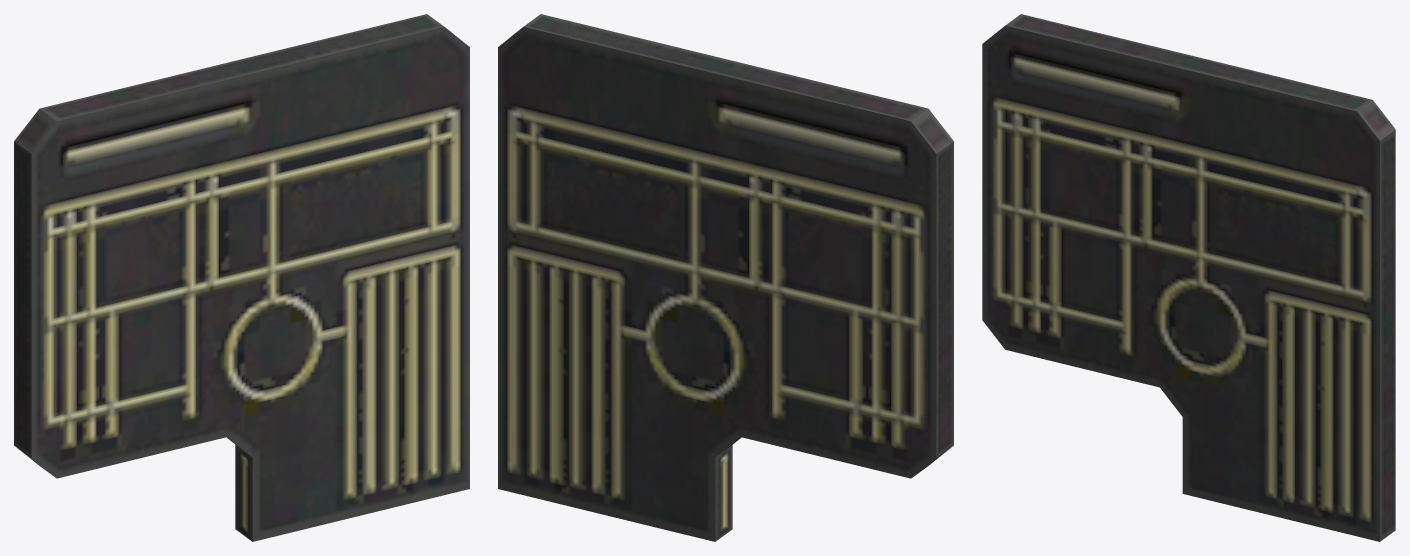
Rendered from eqp_comp_electronic_module_simple.fbx.
3 renders of one model, left to right at view 1: azimuth 30°, elevation 25°; view 2: azimuth 150°, elevation 25°; view 3: azimuth 330°, elevation 25°, orthographic. The views are drawn at different scales.
Visible parts, largest first — view 1: mesh_node; view 2: mesh_node; view 3: mesh_node.
Boxes of the visible parts, x1,y1,x2,y2 form: mesh_node: (14,14,469,541); mesh_node: (498,14,953,541); mesh_node: (982,14,1395,541).
Bounding box in the file's own units: 0.173 × 0.1767 × 0.012.
Materials: 1 (1 with a texture image).
